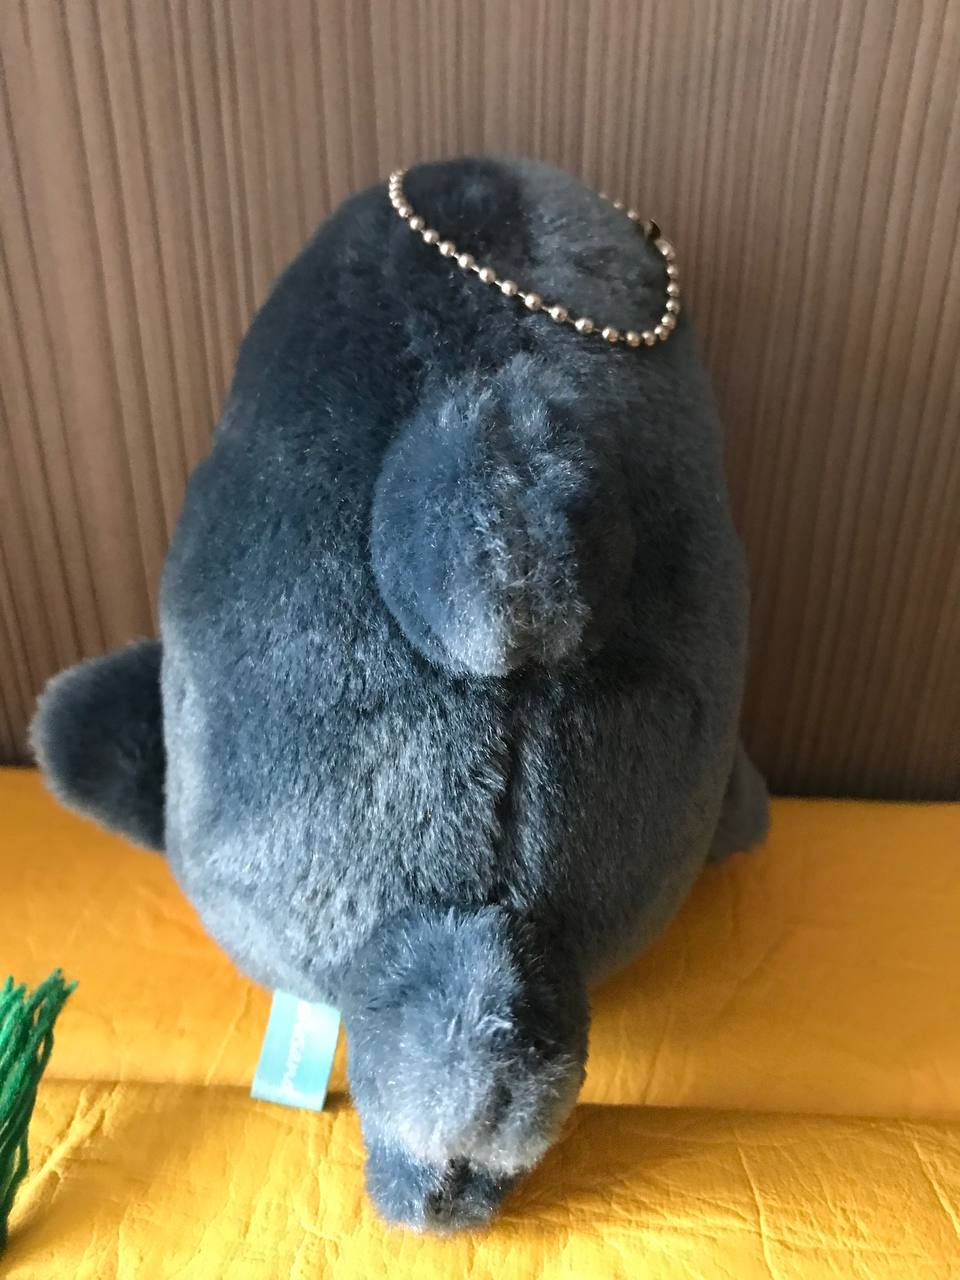cat_shark: (29, 153, 766, 1237)
